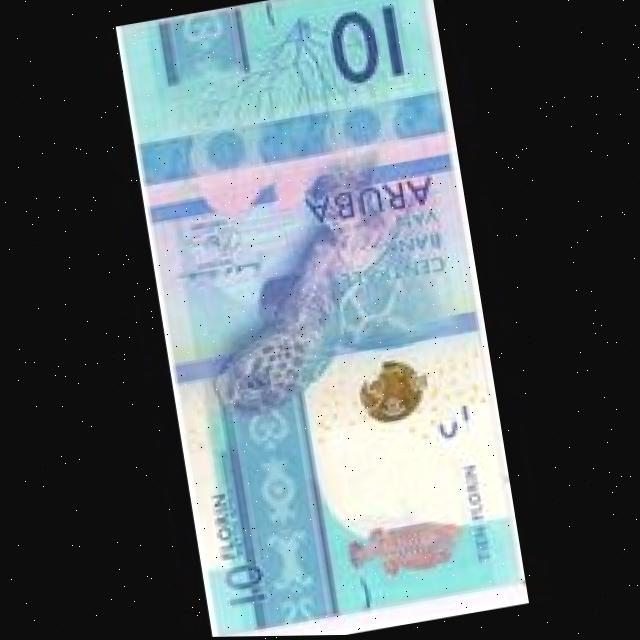banknote: (114, 0, 530, 639)
